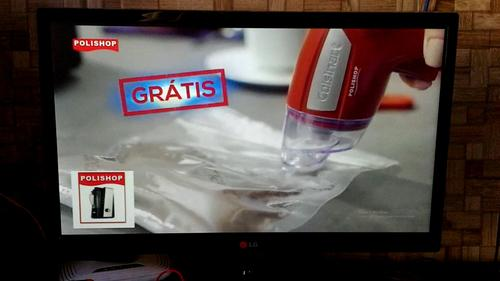Polishop #1: (72, 169, 135, 228)
